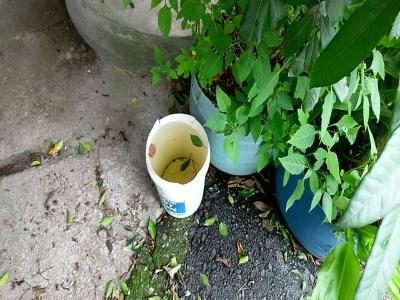bucket: (143, 110, 214, 222)
